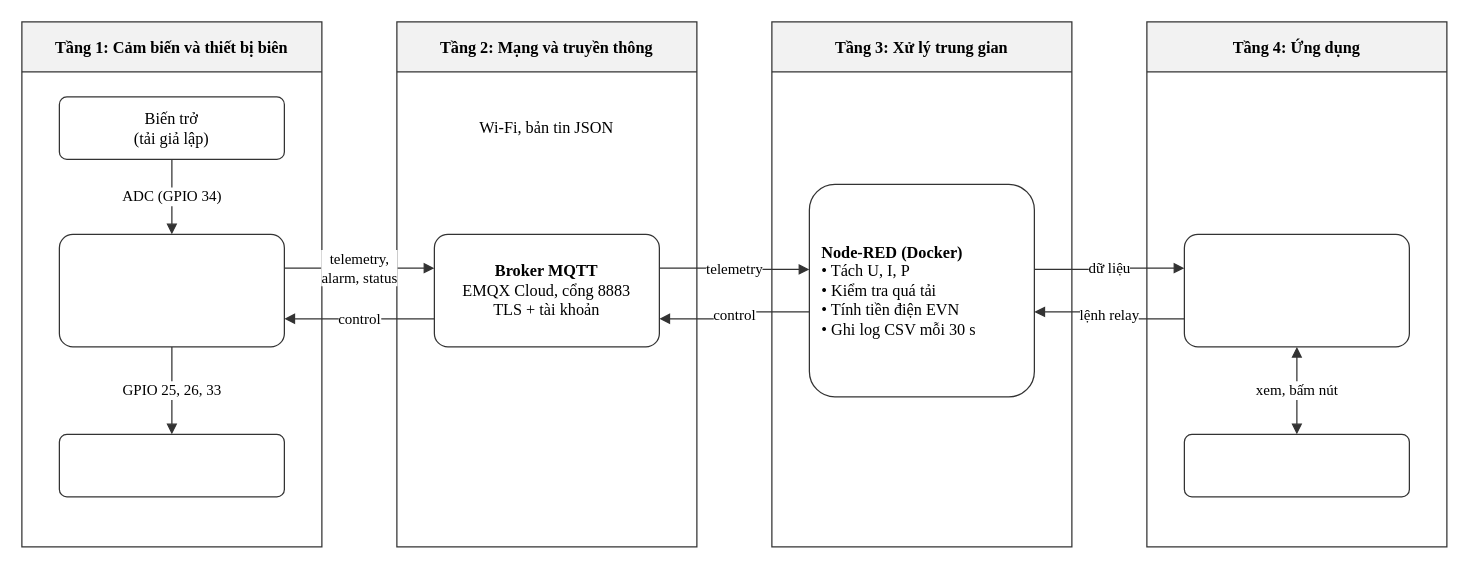
Image size: 1469x569. Some labels were removed from this diagram. The shapes that lost their labels are listed below. From the top down, each one's centre as x and y in pixels, then its label:
(x=171, y=290): ESP32 Lọc trung bình 8 mẫu Máy trạng thái bảo vệ
(x=1296, y=290): Node-RED Dashboard Đồng hồ, biểu đồ, trạng thái, nút điều khiển
(x=171, y=465): Relay, LED đỏ, còi
(x=1296, y=465): Người dùng
